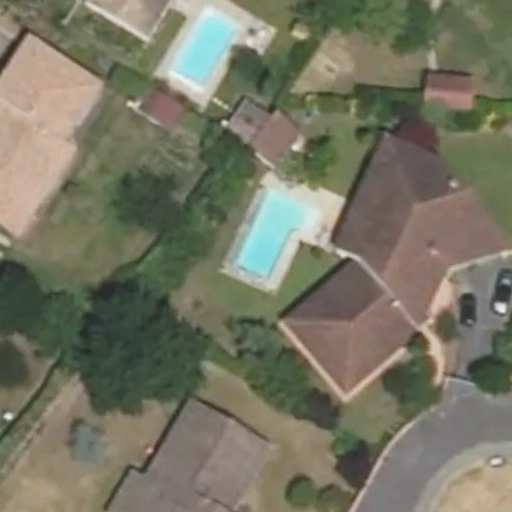pool: (238, 191, 309, 277), (172, 9, 236, 85)
